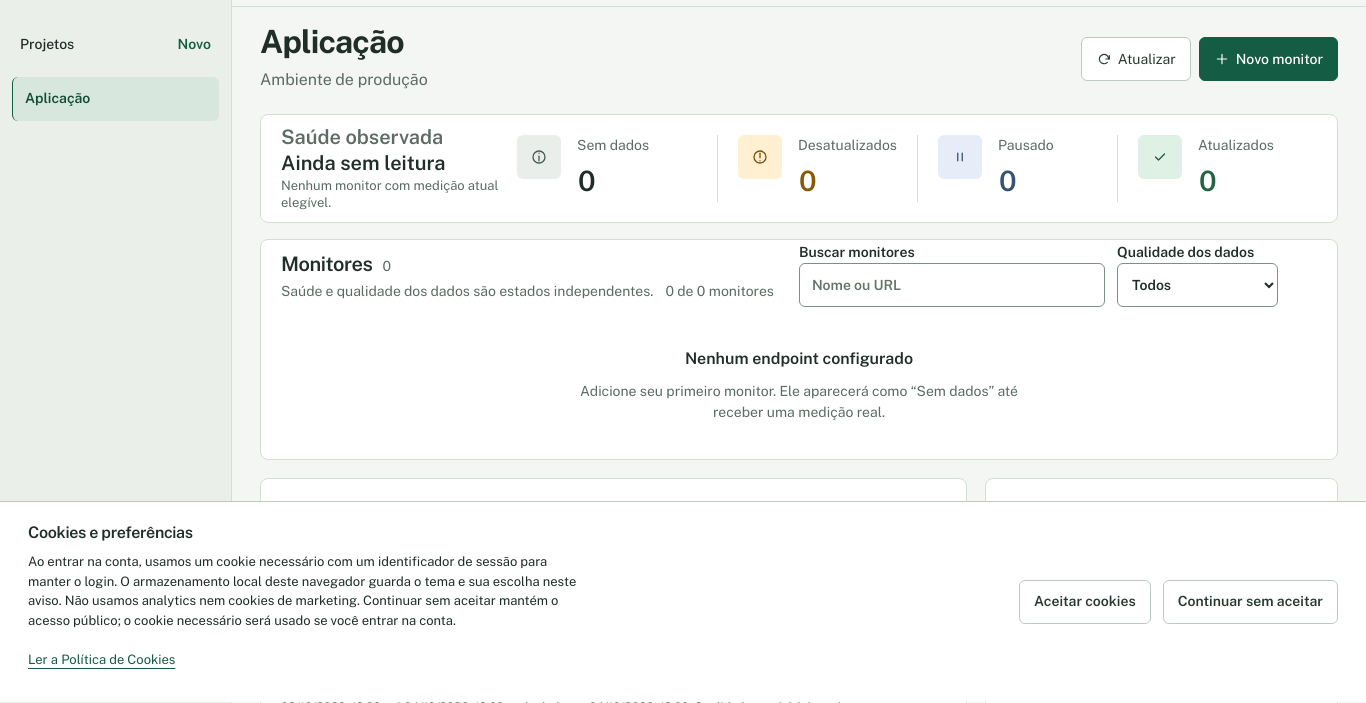
Test: só avança horário em REST bem-sucedido e explica a espera durante edição
What coordinates should you click on to do the following:
click the button "Atualizar"
I would click on:
 (1136, 59)
Its box is x1=1081 y1=37 x2=1191 y2=81.
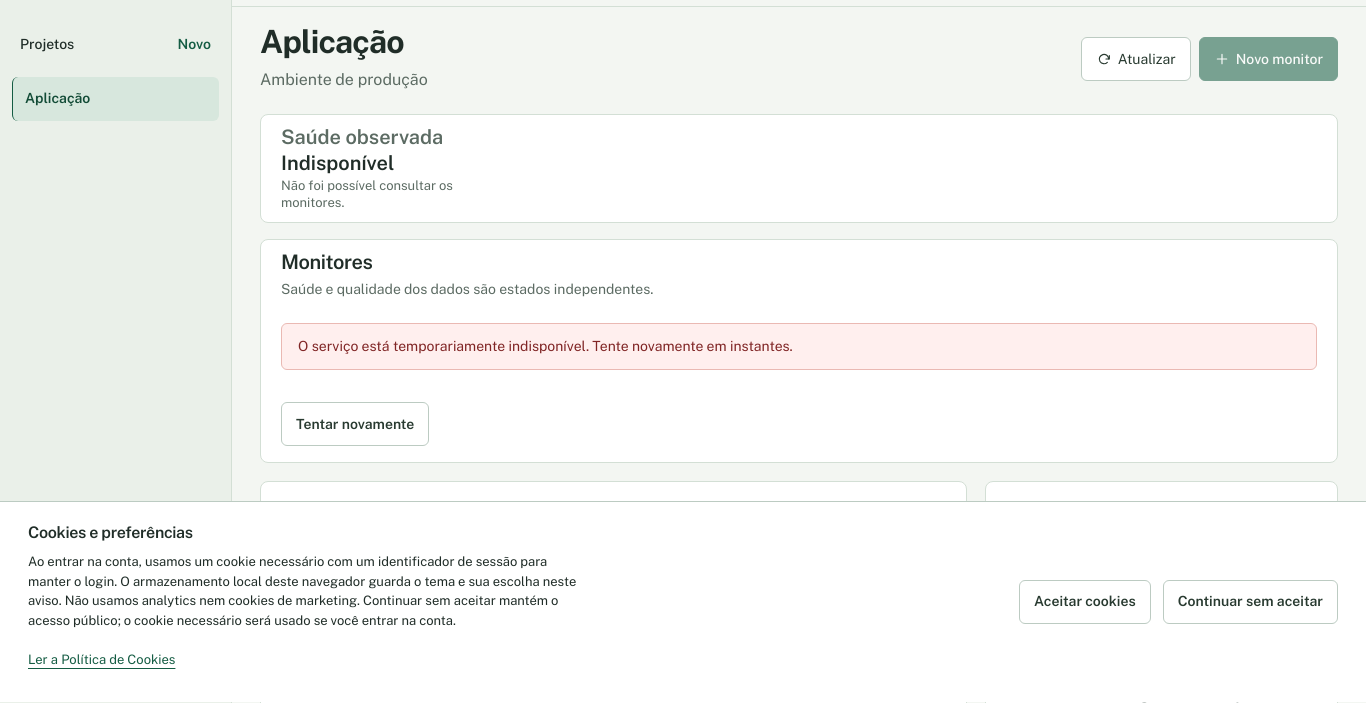
Check: the button "Tentar novamente" is shown
What coordinates should you click on to do the following:
click the button "Tentar novamente"
I would click on:
 (355, 424)
Its box is x1=281 y1=402 x2=429 y2=446.
(page scrolled)
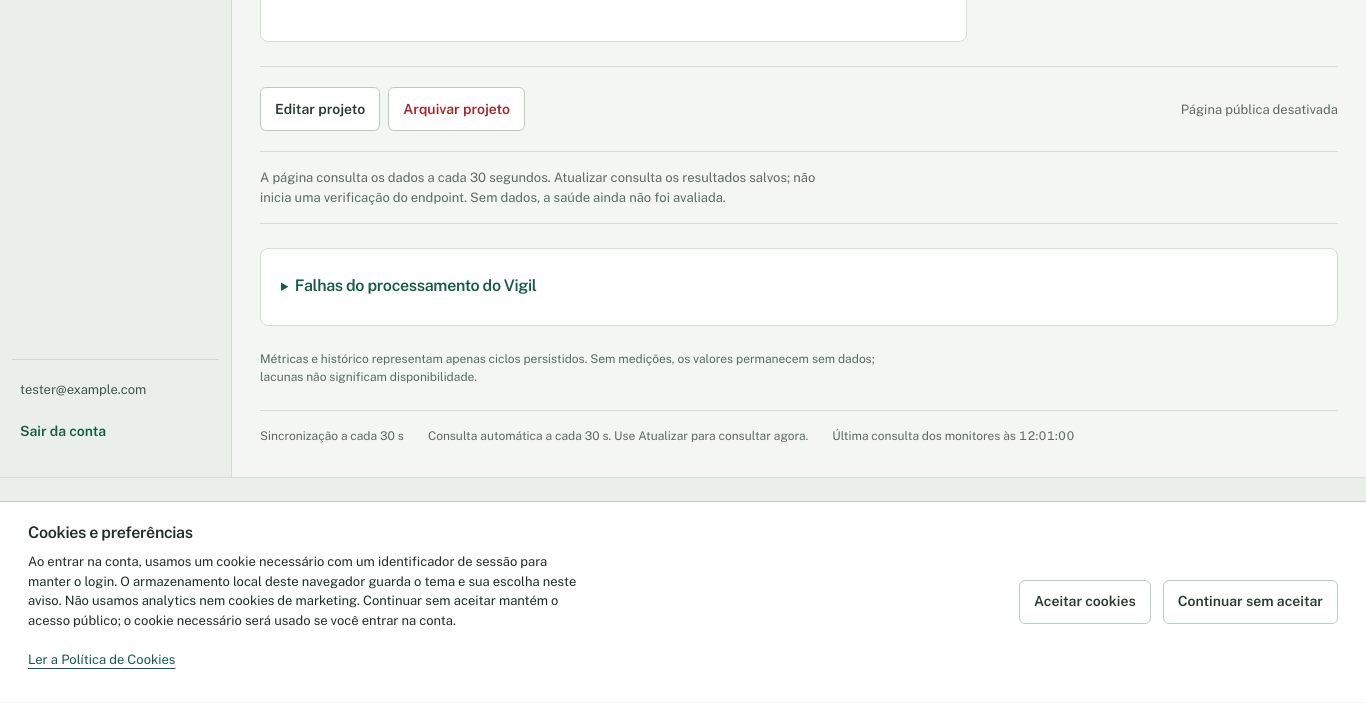
What coordinates should you click on to do the following:
click the button "Editar projeto"
I would click on:
 (320, 109)
Its box is x1=260 y1=87 x2=380 y2=131.
(page scrolled)
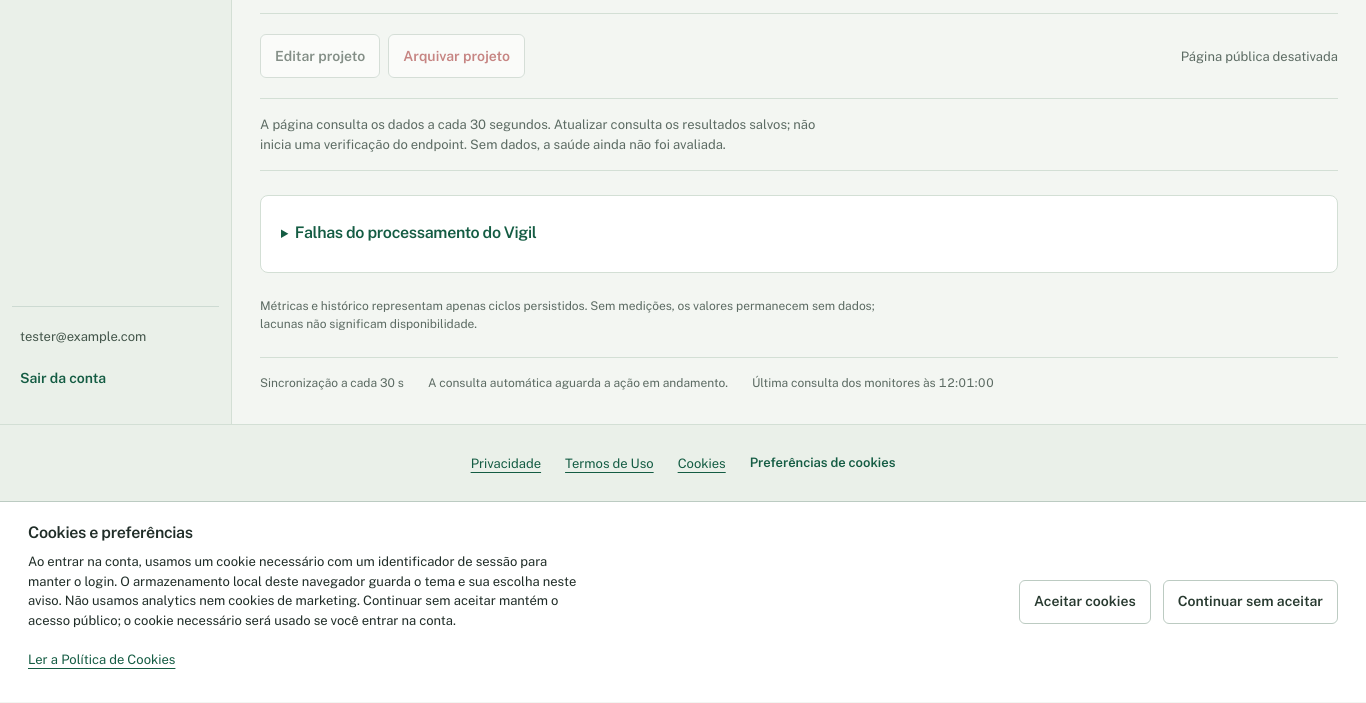
Check: the text "A consulta automática aguarda a ação em andamento." is shown, box x1=428 y1=374 x2=728 y2=392
Check: the text "Consulta automática a cada 30 s. Use Atualizar para consultar agora." is gone
